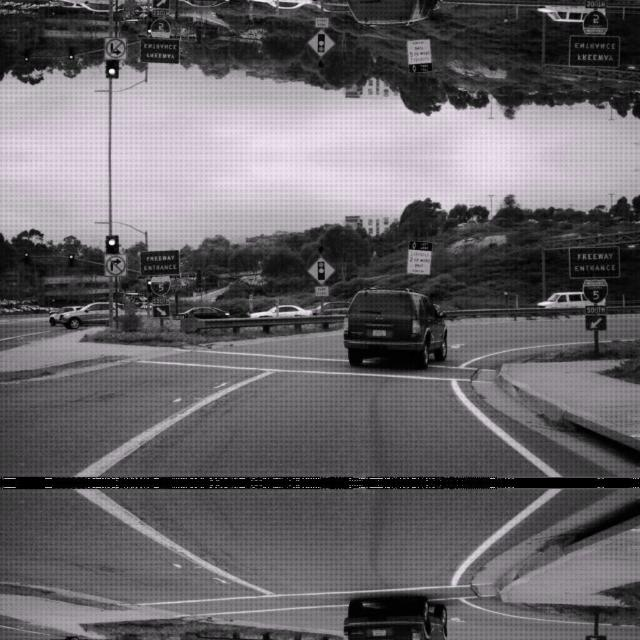signalAhead: (306, 254, 334, 284), (306, 28, 334, 58)
